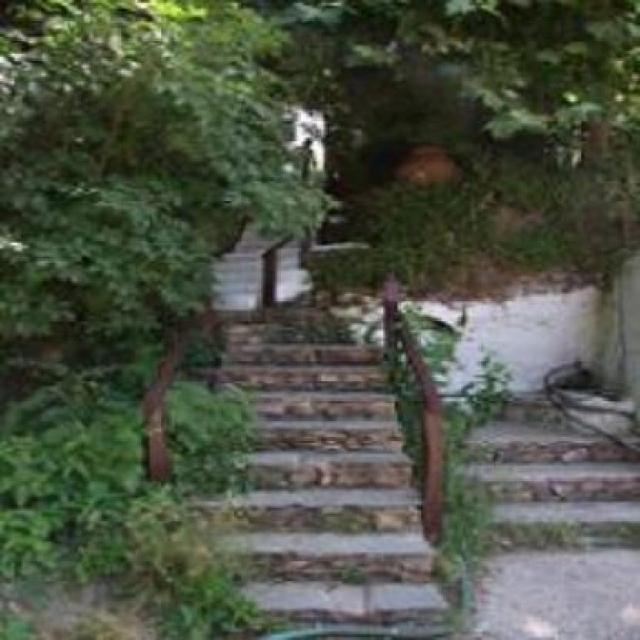stair: (204, 303, 458, 640)
